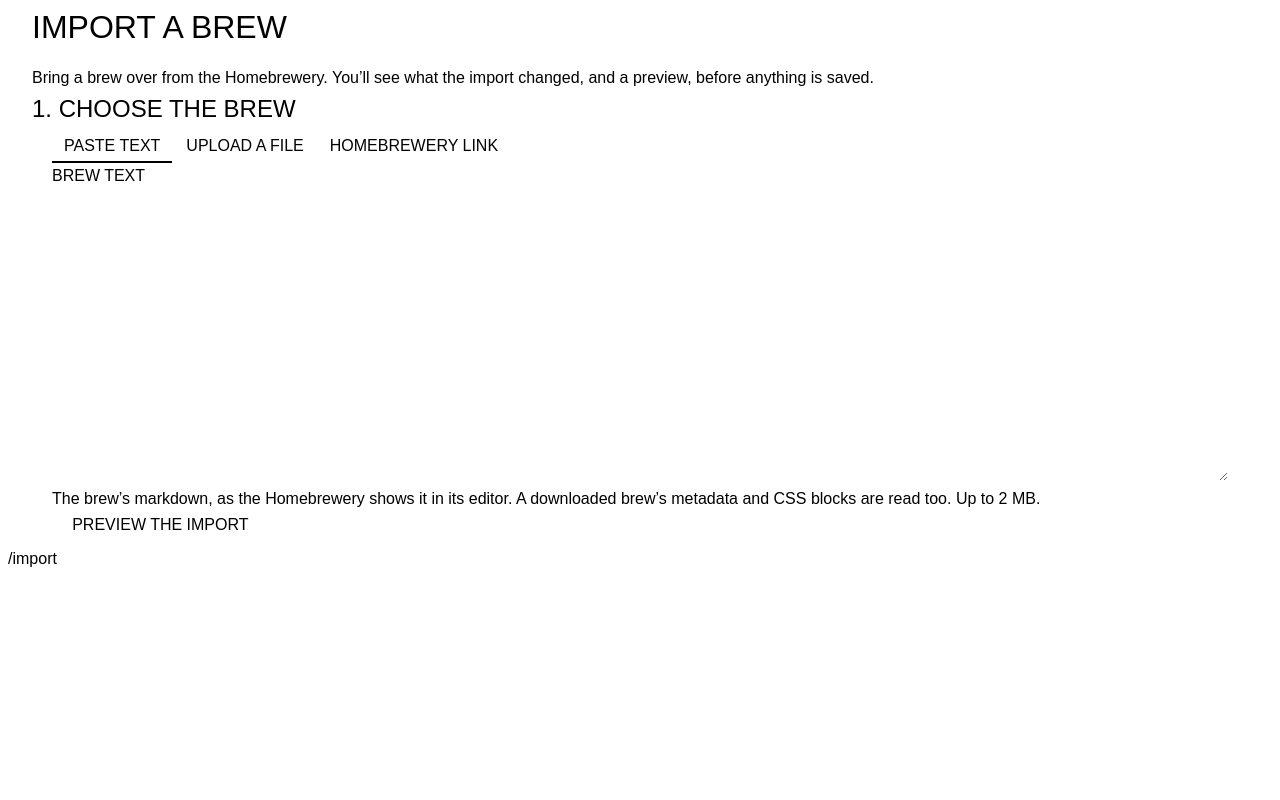
Test case: ImportPage › a preview that fails to load says the page counts are unavailable
This screenshot has width=1280, height=800.
In the text box labelled "Brew text": (640, 338) [52,195,1228,481], type "Text"
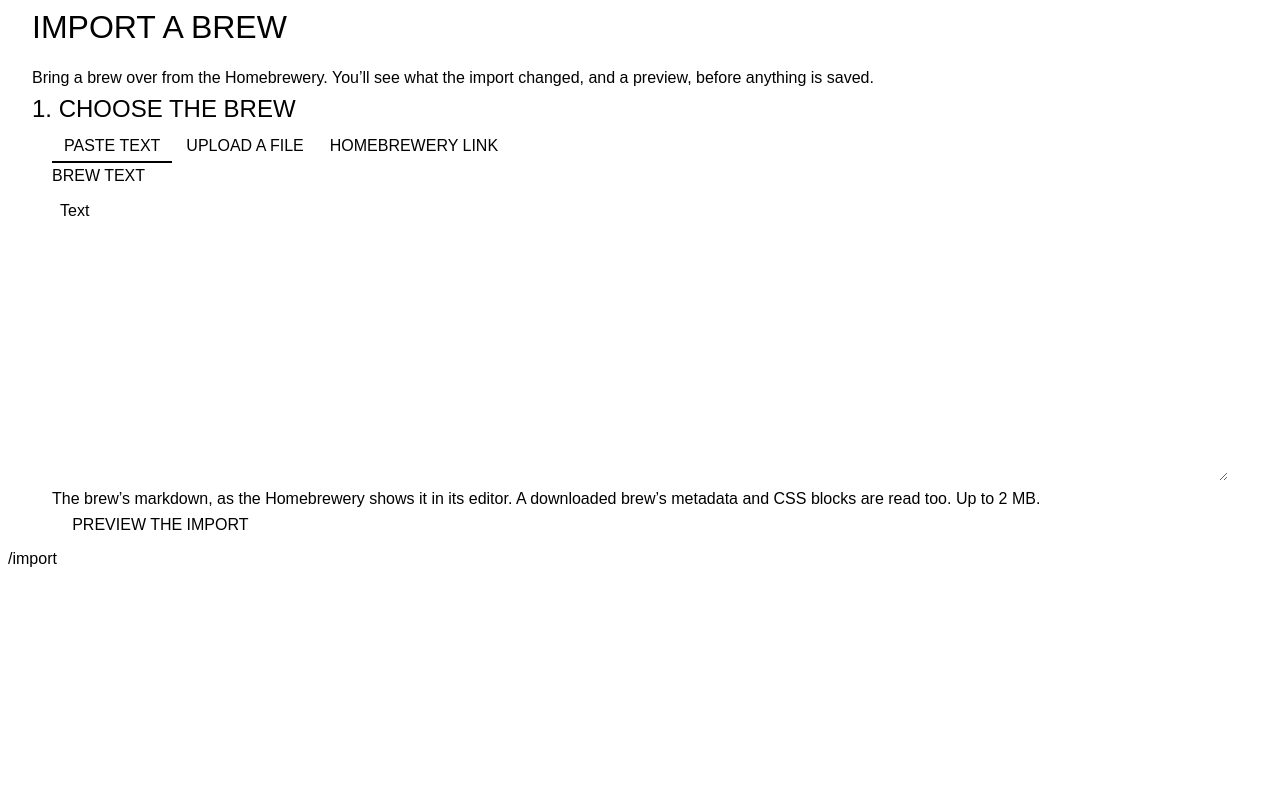
Click the button "Preview the import": click(160, 525) [52,514,269,535]
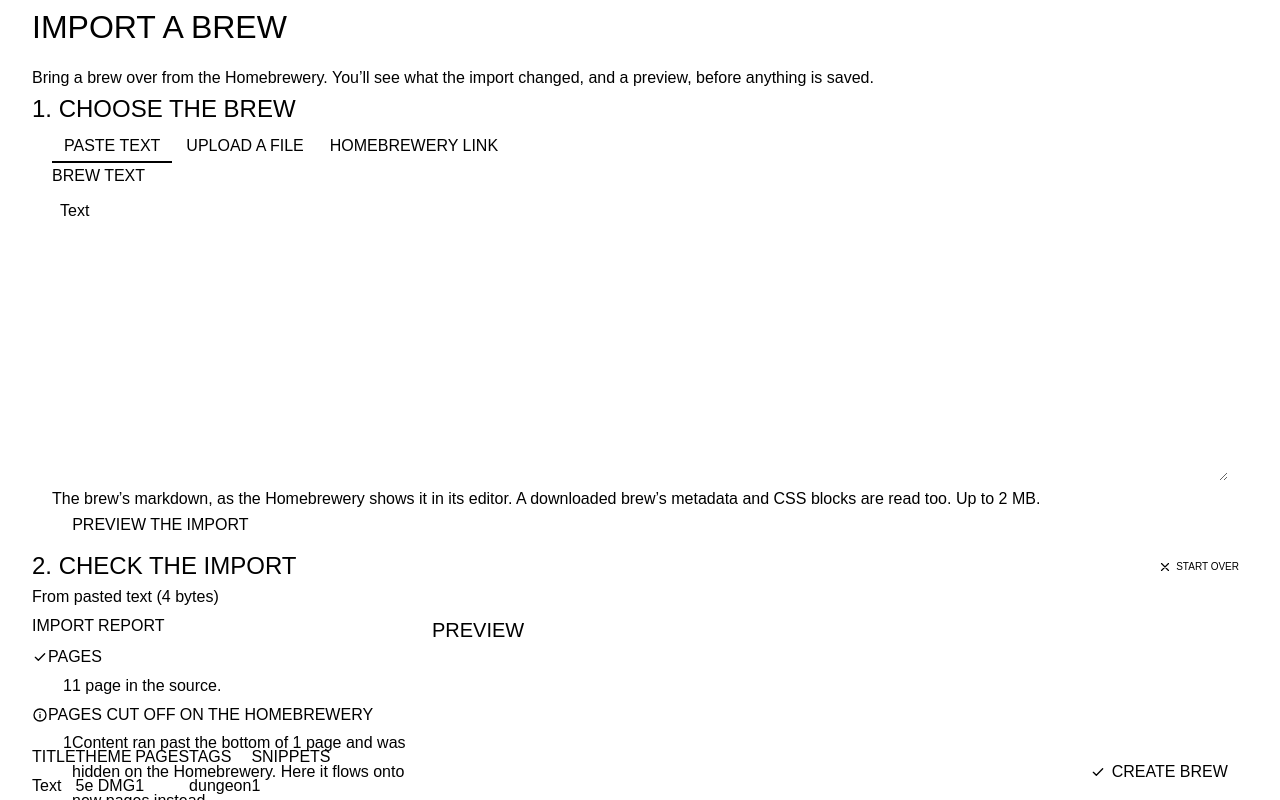
Result: the element with test id "import-report-pages" shows "1 page in the source." at [72,677,221,694]
